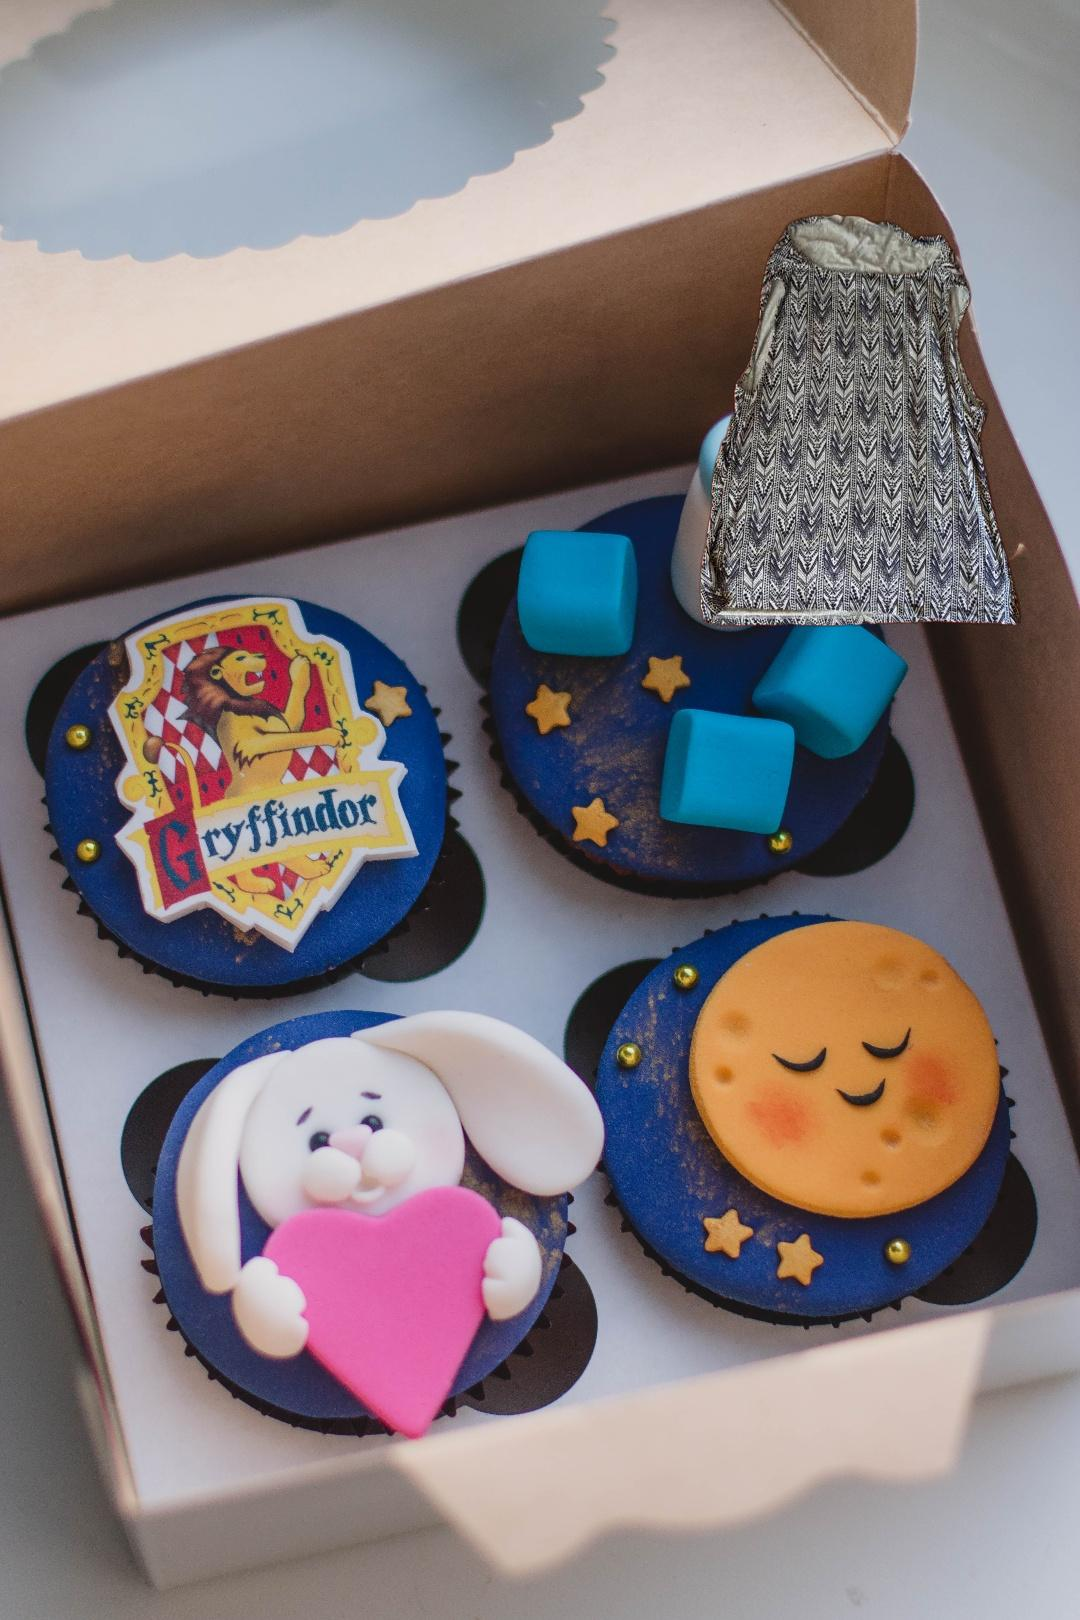clothes: (695, 209, 1025, 630)
